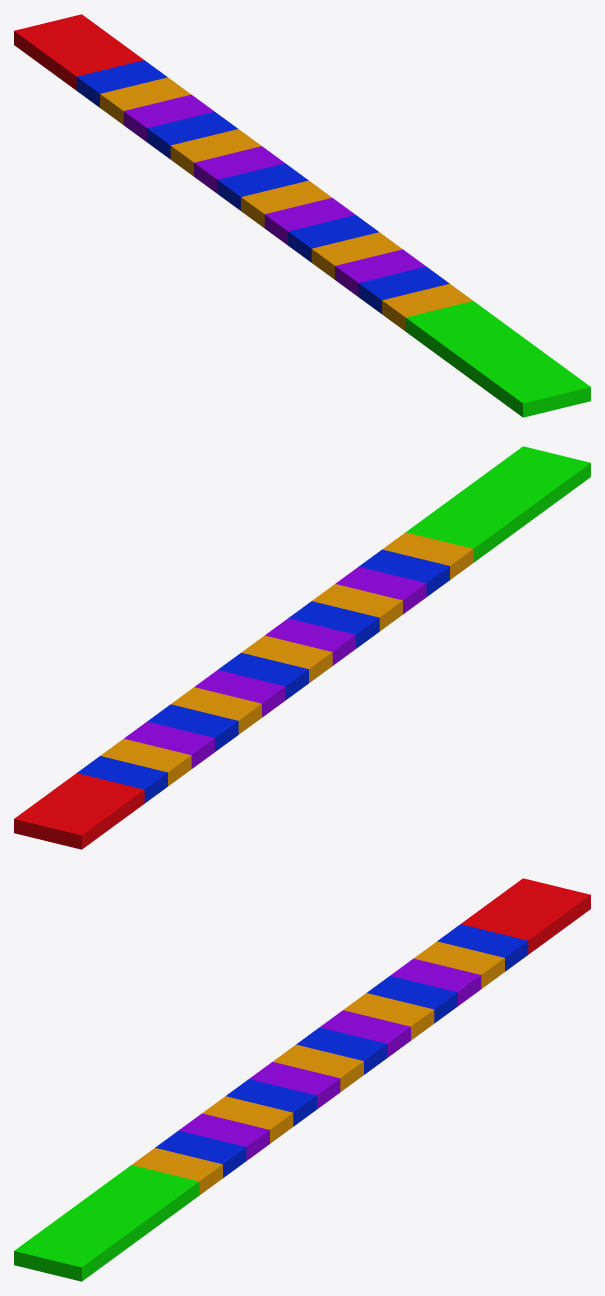
File: Bonus.fbx
3 renders of one model, top to bottom at view 1: azimuth 30°, elevation 25°; view 2: azimuth 150°, elevation 25°; view 3: azimuth 330°, elevation 25°, orthographic.
Parts seen in each view (by area): view 1: Cube; view 2: Cube; view 3: Cube.
Boxes of the visible parts, box(x1,y1,x2,y2) form: Cube: box(14, 14, 590, 417); Cube: box(14, 446, 590, 849); Cube: box(14, 878, 590, 1281).
Bounding box in the file's own units: 5 × 1 × 65.
